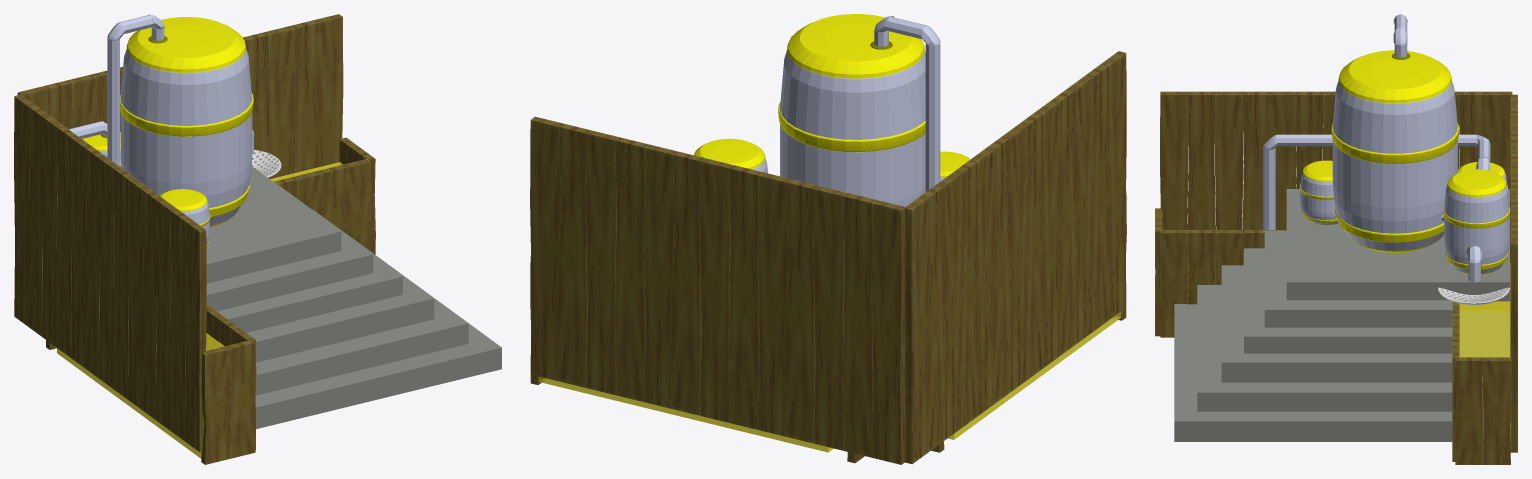
File: MidasMachine2.fbx
3 views of the same model, side by side, from view 1: azimuth 30°, elevation 25°; view 2: azimuth 150°, elevation 25°; view 3: azimuth 270°, elevation 25° (orthographic). The views are drawn at different scales.
Parts seen in each view (by area): view 1: Bottle, Cube.003, Cube.002, Cube.004, Cube.005, Cube.001, Cube, Metall bottom.001, Plank.003, Plank.025, Plank.023, Plank.024 (+28 smaller); view 2: Bottle, Plank.013, Plank.023, Plank.015, Plank.019, Plank.022, Plank.018, Plank.014, Plank.016, Plank.020, Plank.024, Plank.025 (+21 smaller); view 3: Bottle, Cube.002, Cube.003, Cube.004, Cube.005, Cube, Cube.001, Metall bottom.001, Bottle.001, Plank.011, Plank.003, Plank.012 (+26 smaller).
Boxes of the visible parts, box(x1,y1,x2,y2) form: Bottle: box(120, 48, 252, 225); Cube.003: box(255, 245, 501, 429); Cube.002: box(206, 166, 341, 283); Cube.004: box(255, 240, 468, 395); Cube.005: box(247, 209, 434, 362); Cube.001: box(206, 182, 373, 311); Cube: box(217, 255, 402, 332); Metall bottom.001: box(126, 17, 245, 72); Plank.003: box(184, 219, 206, 452); Plank.025: box(316, 14, 343, 166); Plank.023: box(266, 26, 294, 178); Plank.024: box(291, 19, 319, 173); Bottle: box(780, 51, 925, 206); Plank.013: box(871, 200, 904, 464); Plank.023: box(586, 130, 619, 394); Plank.015: box(813, 186, 847, 450); Plank.019: box(700, 158, 733, 422); Plank.022: box(615, 137, 648, 402); Plank.018: box(729, 165, 762, 429); Plank.014: box(842, 193, 876, 457); Plank.016: box(784, 179, 818, 443); Plank.020: box(670, 151, 704, 415); Plank.024: box(557, 123, 590, 387); Plank.025: box(530, 116, 562, 380); Bottle: box(1332, 80, 1457, 250); Cube.002: box(1286, 188, 1509, 301); Cube.003: box(1174, 304, 1452, 441); Cube.004: box(1197, 285, 1452, 411); Cube.005: box(1221, 265, 1452, 382); Cube: box(1244, 248, 1452, 353); Cube.001: box(1264, 230, 1452, 327); Metall bottom.001: box(1338, 50, 1451, 103); Bottle.001: box(1444, 185, 1509, 273); Plank.011: box(1215, 91, 1243, 229); Plank.003: box(1160, 91, 1188, 229); Plank.012: box(1187, 91, 1215, 229).
Size of the model in its own units: 10.09 by 9.81 by 10.08.
